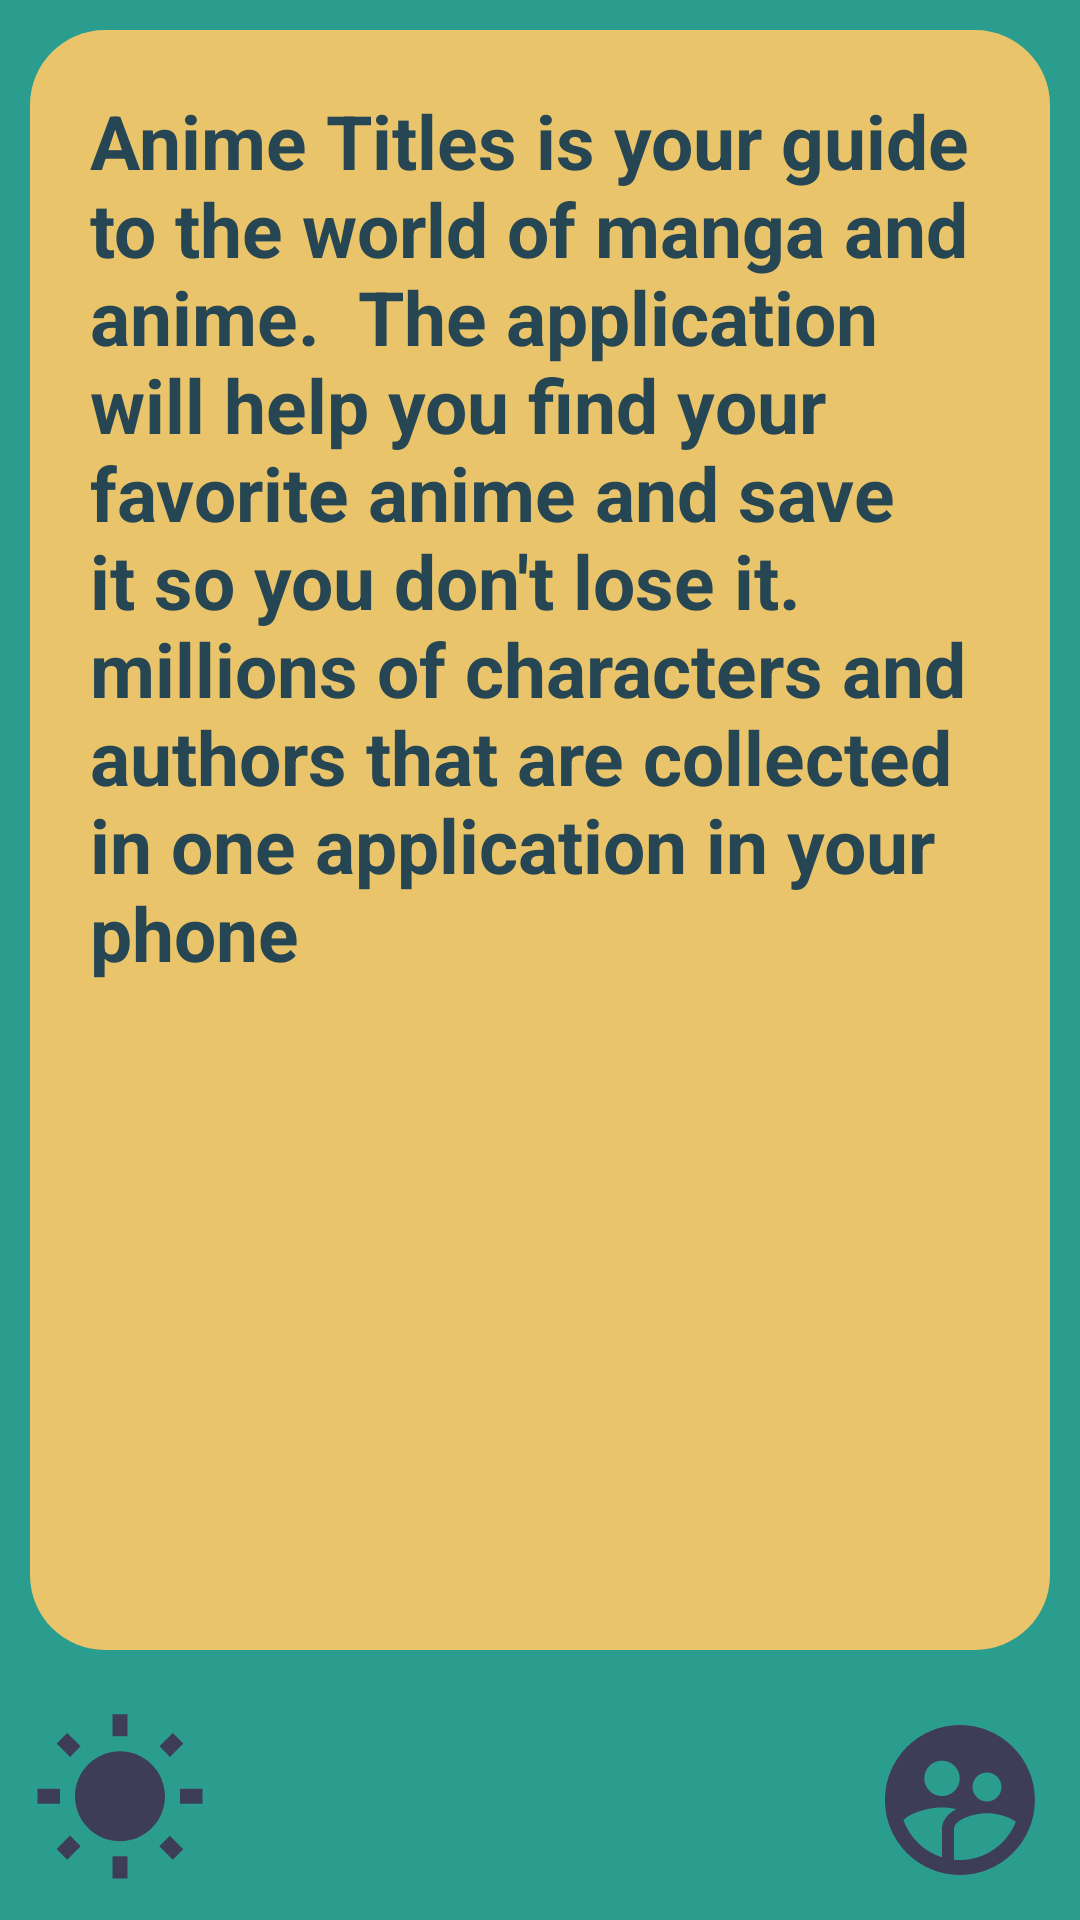

Icons on this 1080×1920 Android screen, each with its box as [x1, y1, x2, y2]:
sun: [37, 1714, 203, 1879]
user circle: [885, 1725, 1035, 1875]
